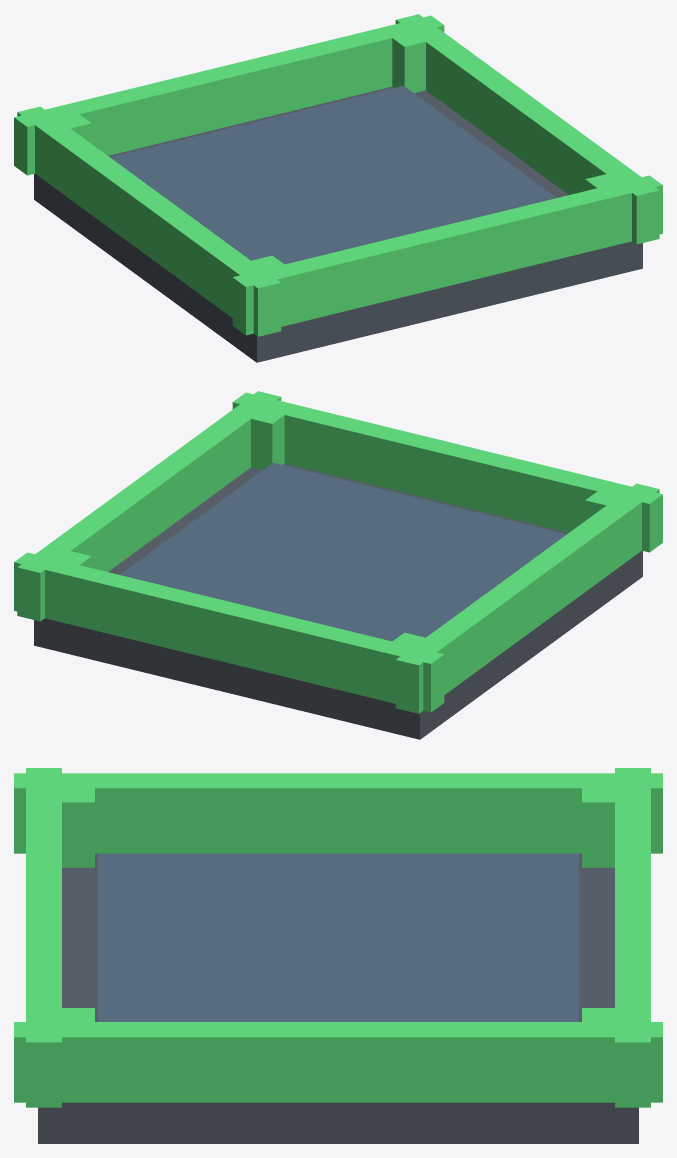
File: TD_StartTile.fbx
3 views of the same model, one above another, from view 1: azimuth 30°, elevation 25°; view 2: azimuth 150°, elevation 25°; view 3: azimuth 270°, elevation 25° (orthographic). The views are drawn at different scales.
Visible parts, largest first — view 1: TD_StartTile_Surface, TD_StartTile_Rail_South, TD_StartTile_Rail_North, TD_StartTile_BasePlate, TD_StartTile_Rail_West, TD_StartTile_Rail_East, TD_StartTile_Corner_NE, TD_StartTile_Corner_NW, TD_StartTile_Corner_SE; view 2: TD_StartTile_Surface, TD_StartTile_Rail_North, TD_StartTile_Rail_South, TD_StartTile_BasePlate, TD_StartTile_Rail_West, TD_StartTile_Rail_East, TD_StartTile_Corner_SE, TD_StartTile_Corner_SW, TD_StartTile_Corner_NE, TD_StartTile_Corner_NW; view 3: TD_StartTile_Surface, TD_StartTile_Rail_East, TD_StartTile_Rail_West, TD_StartTile_BasePlate, TD_StartTile_Rail_North, TD_StartTile_Rail_South, TD_StartTile_Corner_NW, TD_StartTile_Corner_SW, TD_StartTile_Corner_NE, TD_StartTile_Corner_SE.
Boxes of the visible parts, bbox=[...] form: TD_StartTile_Surface: bbox=[110, 85, 556, 264]; TD_StartTile_Rail_South: bbox=[232, 175, 662, 335]; TD_StartTile_Rail_North: bbox=[14, 15, 444, 175]; TD_StartTile_BasePlate: bbox=[34, 86, 642, 362]; TD_StartTile_Rail_West: bbox=[17, 106, 281, 336]; TD_StartTile_Rail_East: bbox=[395, 14, 659, 244]; TD_StartTile_Corner_NE: bbox=[385, 24, 438, 92]; TD_StartTile_Corner_NW: bbox=[45, 114, 91, 143]; TD_StartTile_Corner_SE: bbox=[585, 174, 625, 193]; TD_StartTile_Surface: bbox=[120, 462, 566, 641]; TD_StartTile_Rail_North: bbox=[14, 552, 444, 712]; TD_StartTile_Rail_South: bbox=[232, 392, 662, 552]; TD_StartTile_BasePlate: bbox=[34, 463, 642, 739]; TD_StartTile_Rail_West: bbox=[395, 483, 659, 713]; TD_StartTile_Rail_East: bbox=[17, 391, 281, 621]; TD_StartTile_Corner_SE: bbox=[251, 404, 291, 469]; TD_StartTile_Corner_SW: bbox=[585, 485, 626, 520]; TD_StartTile_Corner_NE: bbox=[37, 548, 91, 567]; TD_StartTile_Corner_NW: bbox=[387, 632, 438, 655]; TD_StartTile_Surface: bbox=[98, 854, 578, 1021]; TD_StartTile_Rail_East: bbox=[14, 1022, 662, 1102]; TD_StartTile_Rail_West: bbox=[14, 773, 662, 853]; TD_StartTile_BasePlate: bbox=[38, 853, 638, 1143]; TD_StartTile_Rail_North: bbox=[615, 768, 650, 1107]; TD_StartTile_Rail_South: bbox=[26, 768, 61, 1107]; TD_StartTile_Corner_NW: bbox=[582, 779, 635, 867]; TD_StartTile_Corner_SW: bbox=[41, 788, 94, 867]; TD_StartTile_Corner_NE: bbox=[582, 1008, 635, 1030]; TD_StartTile_Corner_SE: bbox=[41, 1008, 94, 1021].
Size of the model in its own units: 1.08 by 0.205 by 1.08.
